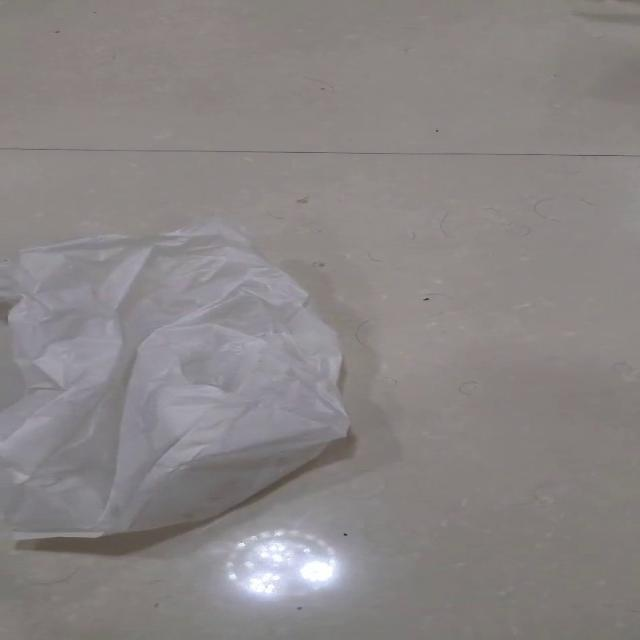plastic: (0, 217, 351, 539)
